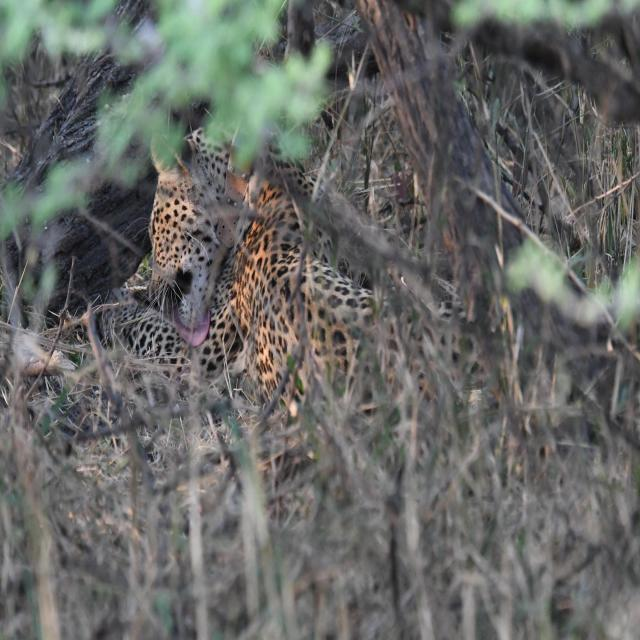Leopard: (103, 115, 506, 399)
